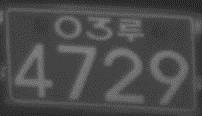0: (53, 13, 83, 39)
2: (102, 46, 145, 104)
3: (84, 15, 112, 41)
4: (15, 43, 53, 98)
7: (57, 43, 97, 100)
9: (149, 48, 189, 105)
루: (117, 17, 145, 42)
